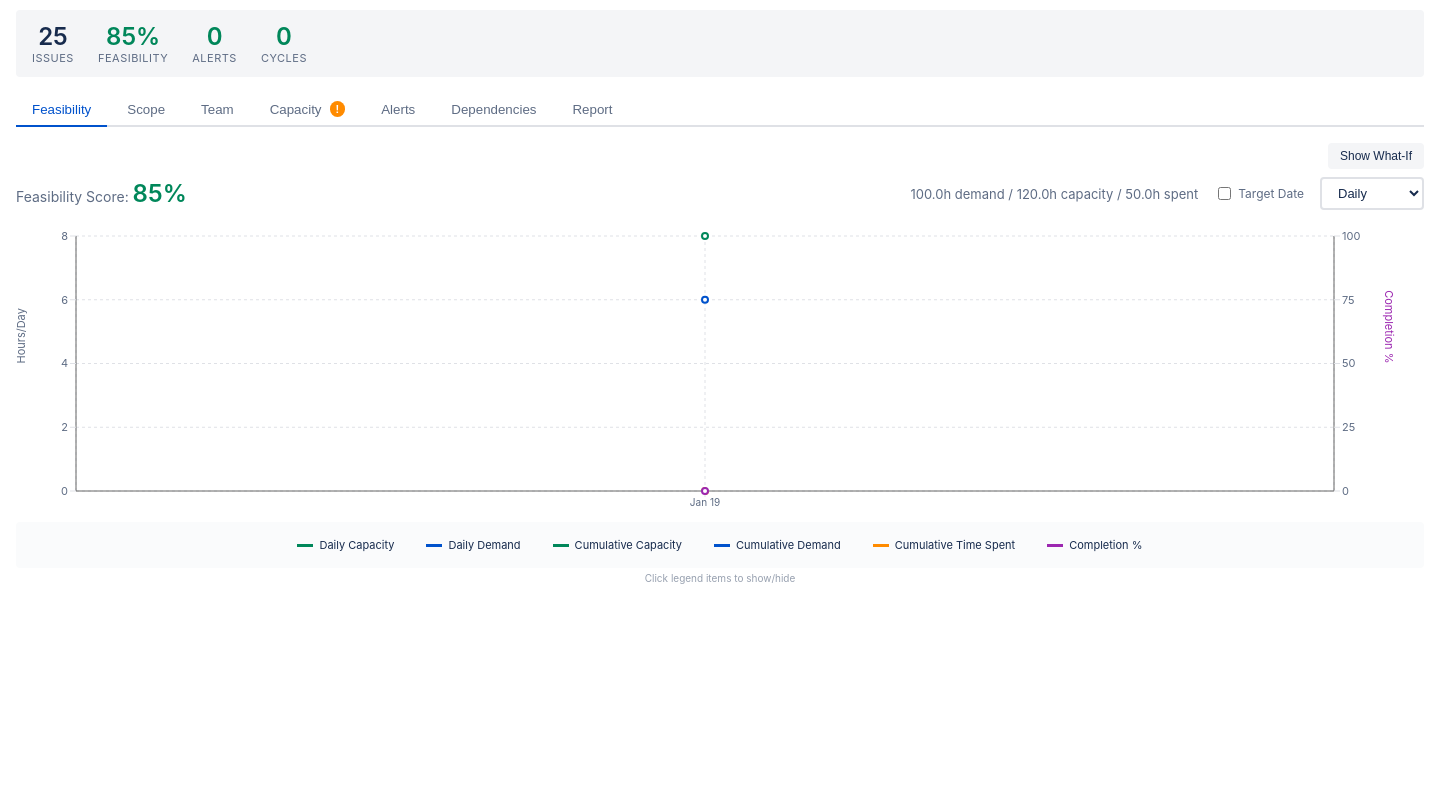
Test: What-If Scenarios › Clear All button removes all scenarios
# Open What-If panel and add a scenario
Step 1. Click the button "Show What-If" → [1376, 156], box [1328,143,1424,169]
(page scrolled)
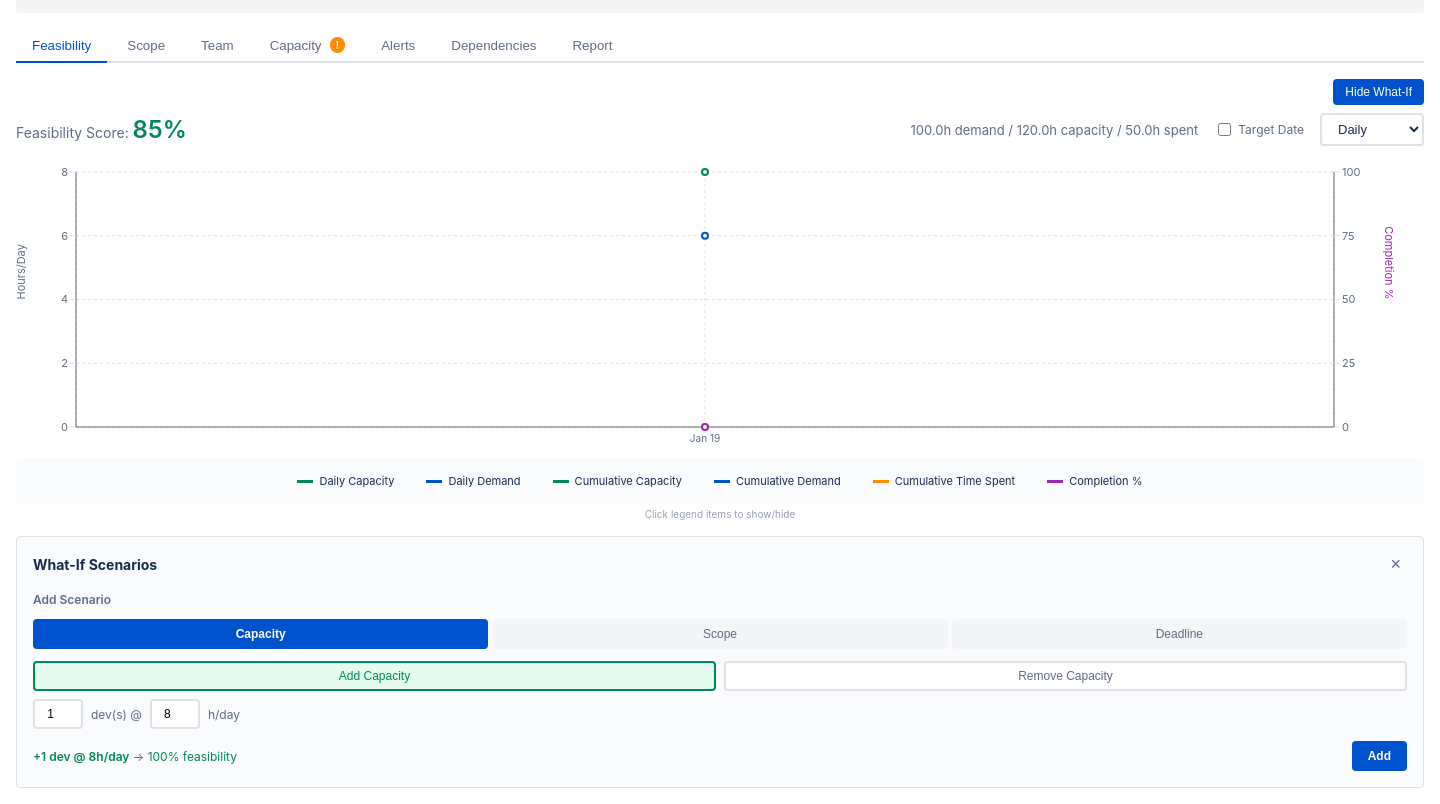
Step 2. Click the button "Add" → [1379, 756], box [1352,741,1407,771]
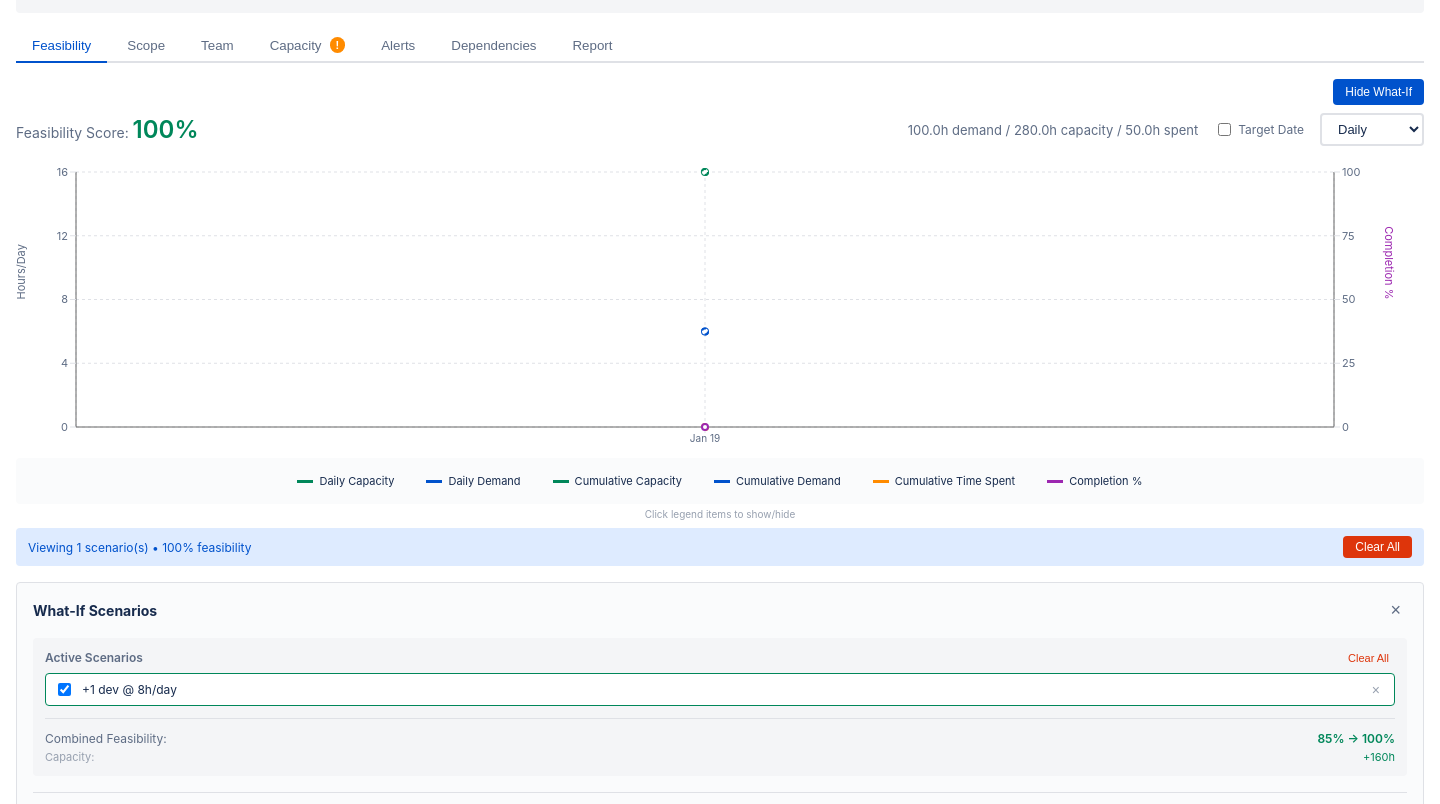
Now the text "Viewing 1 scenario(s) • 100% feasibility" is shown, box [28,540,252,554]
# Click Clear All in the scenario indicator (not the panel's Clear All)
Step 3. Click the button "Clear All" in the row of "Active Scenarios" → [1368, 658], box [1342,650,1395,664]
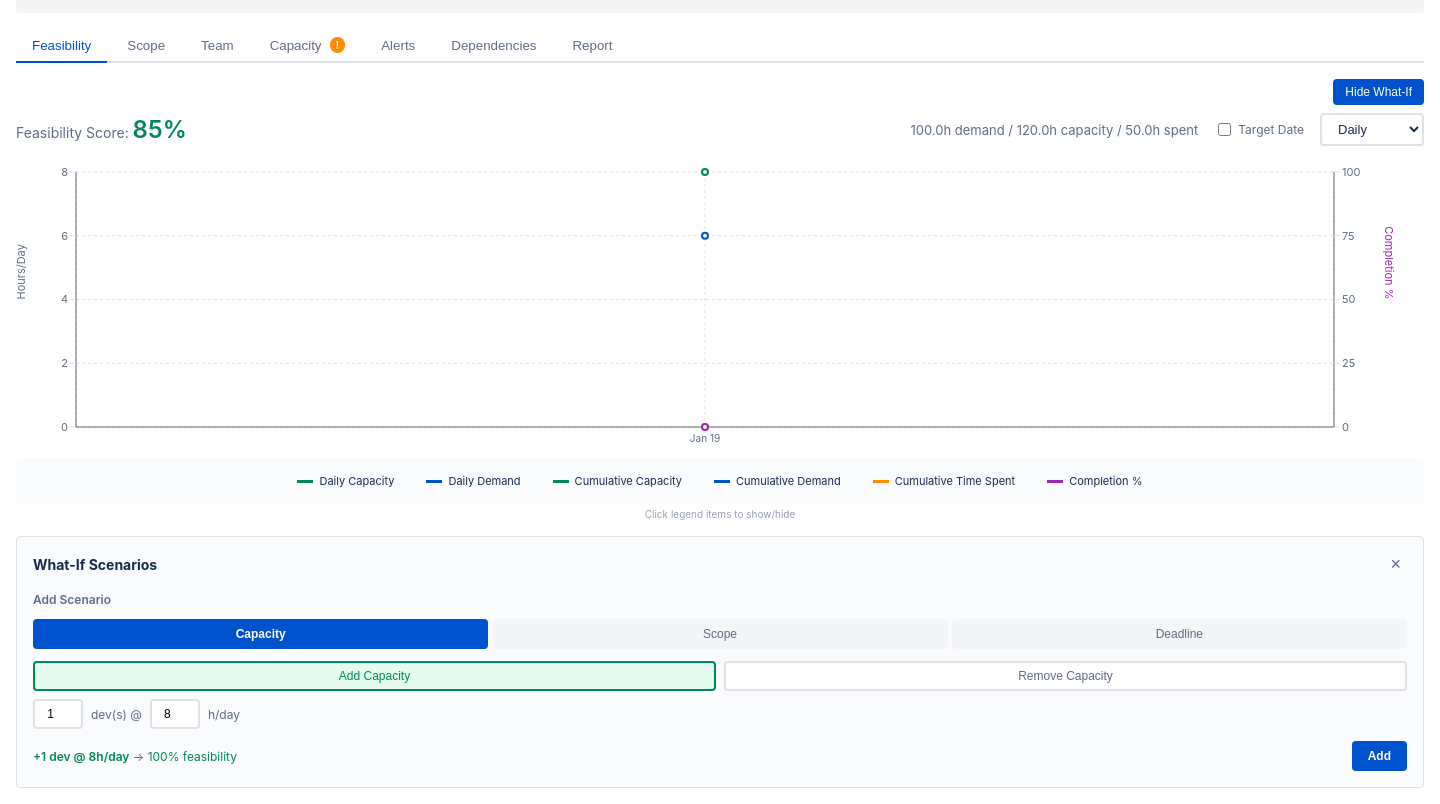
Now the text "Viewing 1 scenario(s) • 100% feasibility" is gone
